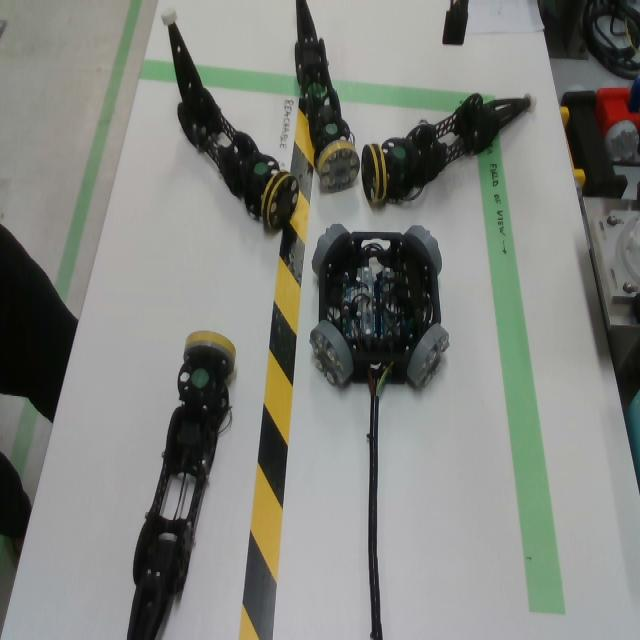body: (319, 233, 441, 386)
body_connector: (309, 320, 354, 388), (407, 324, 451, 391), (311, 224, 350, 276), (404, 225, 443, 275)
leg: (126, 329, 236, 640), (161, 8, 299, 231), (361, 92, 539, 203), (295, 0, 361, 191)
leg_connector: (183, 331, 236, 376), (261, 172, 300, 231), (317, 140, 361, 192), (361, 143, 387, 205)
leg_marker: (191, 368, 209, 388), (254, 163, 268, 175), (393, 147, 406, 159), (325, 124, 338, 135)
